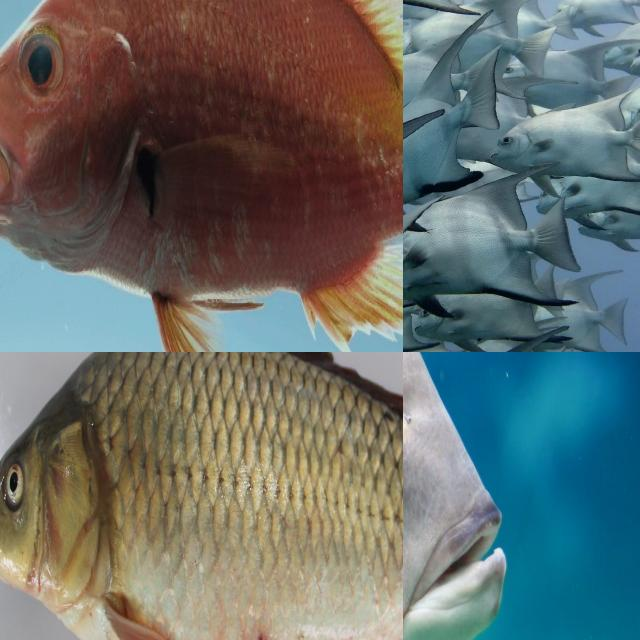fish: (0, 0, 403, 352), (0, 352, 403, 640), (403, 352, 635, 640), (478, 0, 640, 42)
